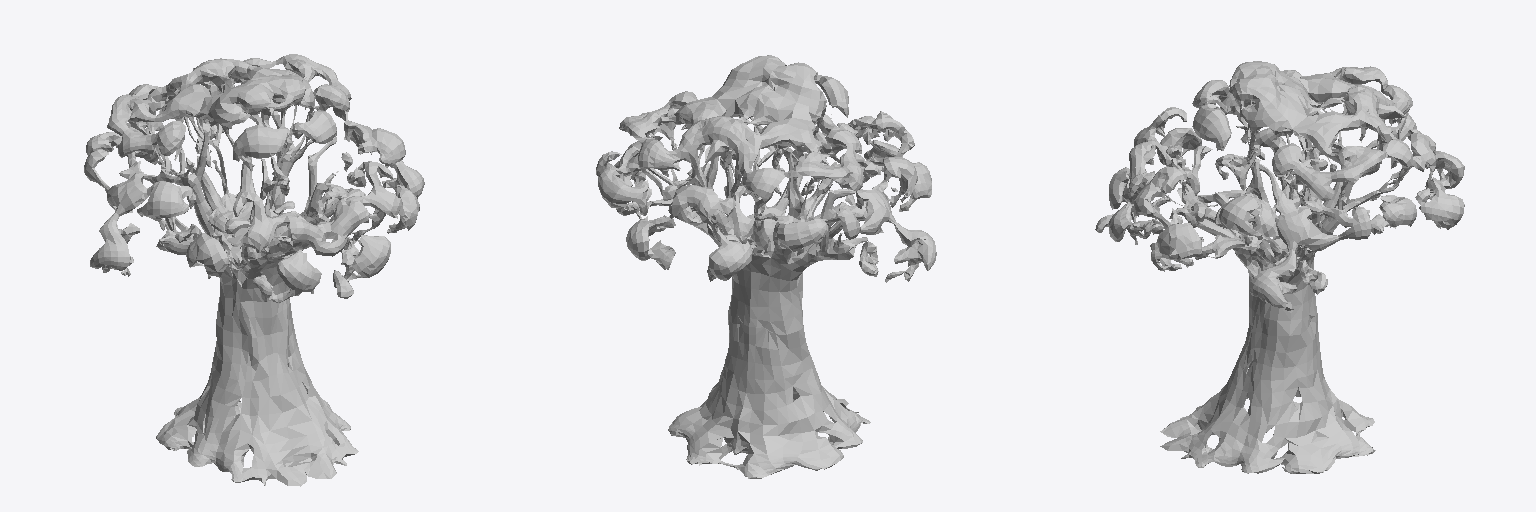
Rendered from Tree.obj.
3 renders of one model, left to right at view 1: azimuth 30°, elevation 25°; view 2: azimuth 150°, elevation 25°; view 3: azimuth 270°, elevation 25°, orthographic.
Visible parts, largest first — view 1: Tree__[number redacted]_texture; view 2: Tree__[number redacted]_texture; view 3: Tree__[number redacted]_texture.
Boxes of the visible parts, box(x1,y1,x2,y2) form: Tree__[number redacted]_texture: box(84, 54, 424, 486); Tree__[number redacted]_texture: box(596, 55, 936, 478); Tree__[number redacted]_texture: box(1095, 61, 1464, 473).
Bounding box in the file's own units: 1.83 × 1.96 × 1.78.